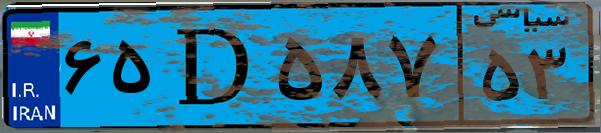3: (525, 38, 570, 115)
5: (270, 28, 330, 110), (475, 38, 525, 113), (110, 28, 158, 98)
6: (57, 26, 110, 100)
7: (385, 28, 445, 110)
8: (330, 28, 385, 110)
D: (158, 12, 270, 120)
